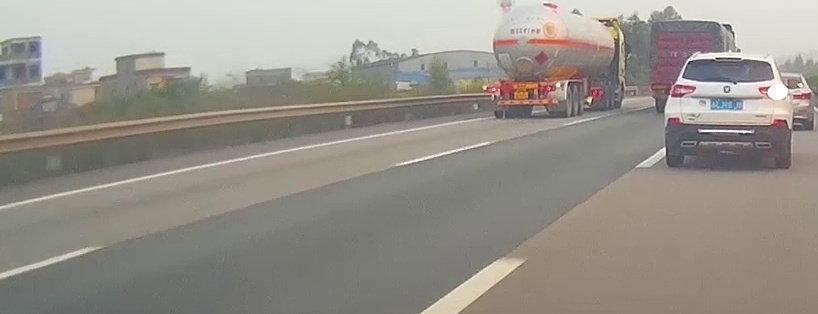L_light: (668, 83, 697, 98), (488, 87, 500, 92)
R_light: (758, 86, 788, 99), (540, 86, 555, 91)
T_light: (714, 57, 743, 62), (516, 82, 530, 86)
day-no: (484, 80, 567, 119)
day-right: (663, 51, 790, 167)
